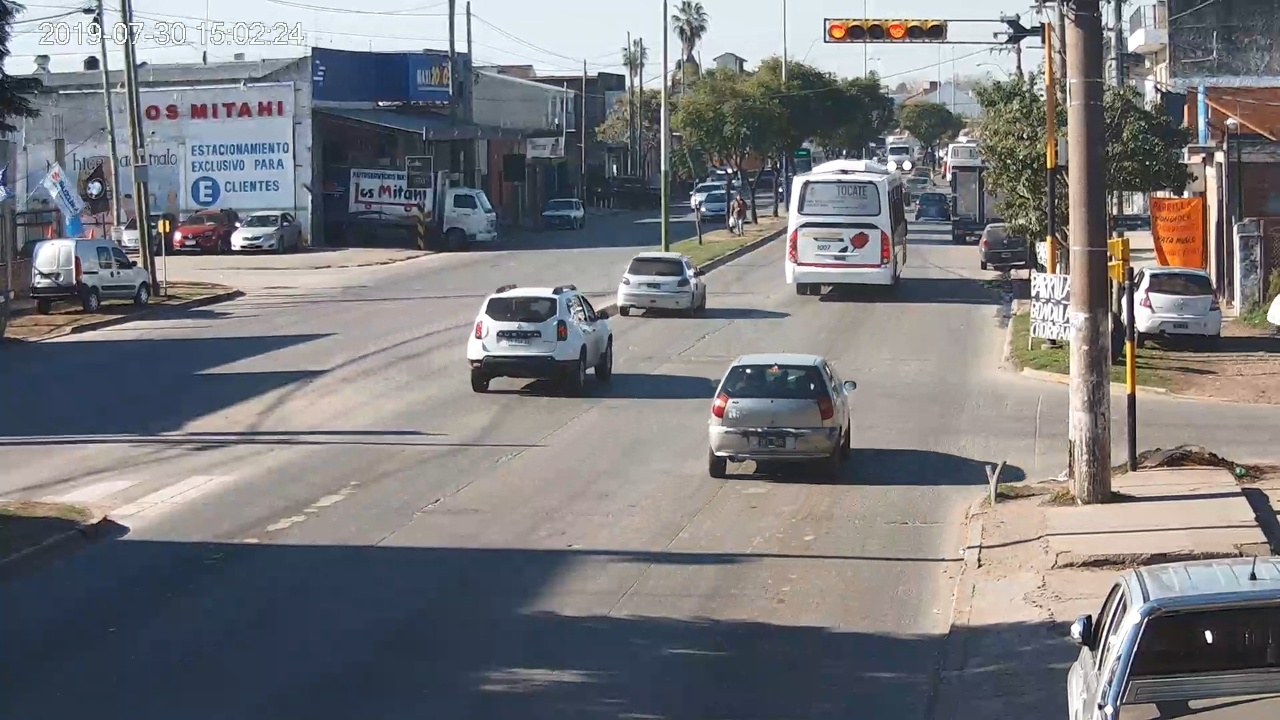bus: (785, 160, 911, 295)
car: (708, 354, 856, 478), (468, 288, 613, 390), (616, 251, 706, 317)
